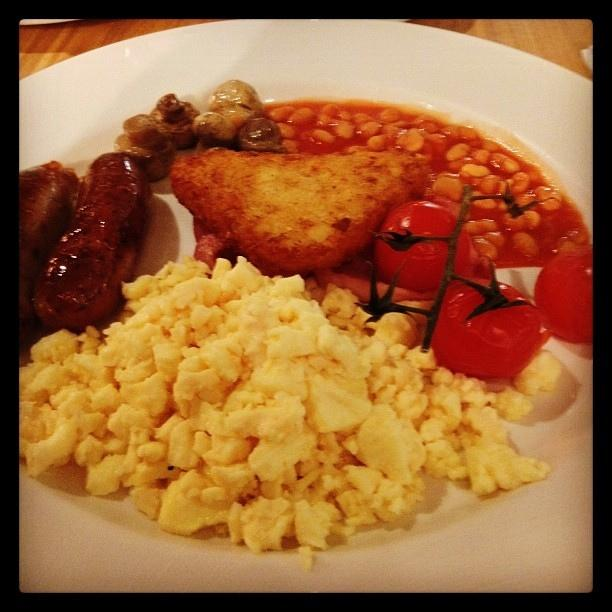mushroom: (113, 114, 173, 164), (208, 80, 264, 132), (150, 94, 199, 150), (192, 111, 237, 151), (238, 117, 280, 151)
potato: (172, 147, 428, 278)
tomato: (429, 262, 544, 378), (375, 201, 477, 292), (533, 245, 592, 344)
